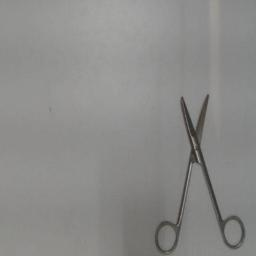Curved Mayo Scissors: (152, 89, 248, 255)
